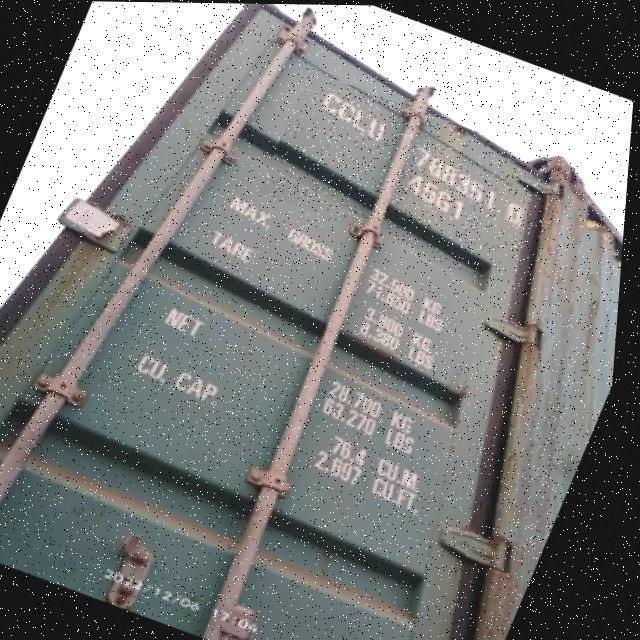container_number_h: (254, 69, 583, 291)
